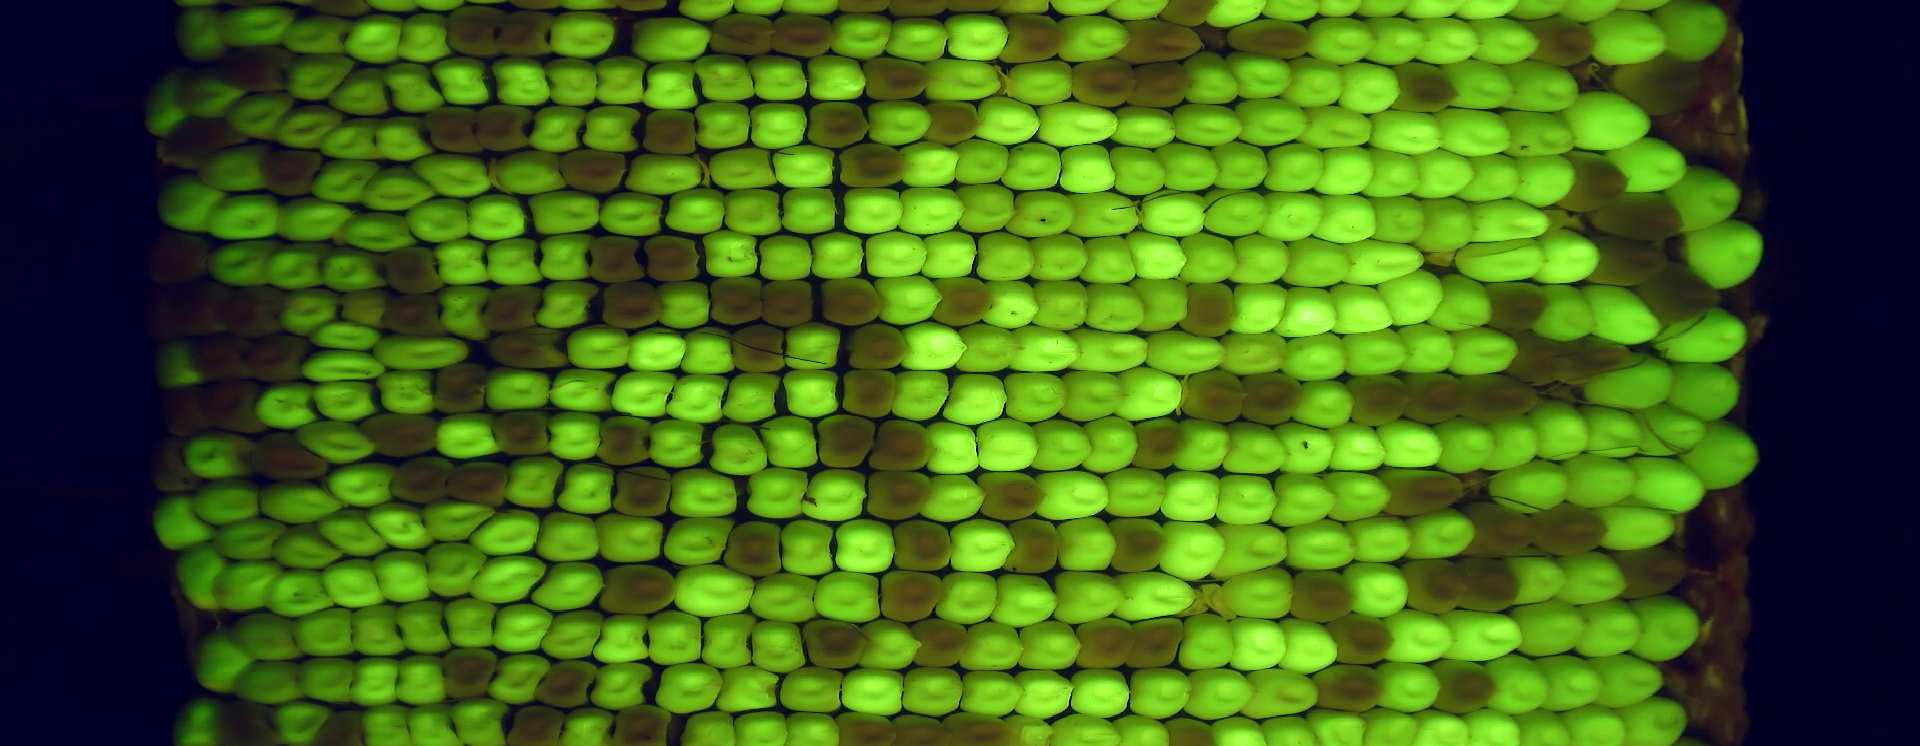fluorescent: (1649, 304, 1751, 361), (1562, 94, 1651, 154), (1687, 219, 1766, 287), (1682, 423, 1762, 489), (1667, 167, 1745, 229), (1667, 363, 1746, 424), (1561, 451, 1641, 510), (1109, 566, 1198, 619), (1627, 454, 1706, 513), (1649, 4, 1728, 62), (1591, 355, 1671, 412), (1633, 597, 1700, 665), (1608, 138, 1690, 194), (1575, 599, 1647, 661), (1209, 522, 1288, 578), (1489, 461, 1571, 514), (1442, 606, 1523, 660), (673, 562, 751, 619), (1220, 565, 1297, 621), (1439, 59, 1515, 115), (1456, 236, 1548, 283), (1534, 654, 1605, 714), (1509, 603, 1589, 655), (1500, 61, 1582, 113), (1596, 499, 1675, 551), (1588, 650, 1664, 706), (1051, 570, 1128, 624), (1160, 519, 1224, 583), (1231, 96, 1313, 146), (1582, 285, 1653, 343), (1031, 470, 1112, 521), (1062, 187, 1142, 238), (1468, 197, 1555, 244), (1036, 99, 1120, 147), (746, 570, 824, 621), (1596, 11, 1667, 67), (296, 416, 377, 465), (1343, 561, 1412, 619), (471, 552, 542, 608), (1559, 550, 1630, 605), (1369, 104, 1445, 156), (776, 661, 849, 715), (629, 17, 713, 64), (1344, 238, 1428, 284), (156, 176, 225, 232), (1065, 325, 1150, 370), (1509, 154, 1580, 208), (1240, 670, 1322, 717), (1029, 278, 1096, 334), (1534, 284, 1596, 345), (482, 366, 553, 419), (1376, 663, 1447, 715), (1160, 465, 1224, 523), (1380, 272, 1445, 330), (1493, 110, 1580, 153), (834, 517, 900, 573), (994, 570, 1060, 626), (1212, 473, 1280, 528), (951, 179, 1021, 232), (1288, 239, 1358, 292), (1082, 413, 1141, 475), (1278, 616, 1343, 673), (666, 516, 737, 567), (816, 570, 883, 624), (538, 55, 605, 109), (958, 622, 1030, 673), (778, 516, 838, 576), (938, 570, 1000, 627), (1487, 659, 1549, 717), (1220, 420, 1289, 472), (416, 152, 493, 198), (1204, 187, 1273, 239), (1104, 463, 1168, 519), (1502, 550, 1566, 606), (1227, 612, 1291, 669), (659, 661, 724, 717), (746, 619, 811, 674), (1057, 16, 1131, 64), (1404, 508, 1476, 559), (856, 616, 922, 670), (1018, 619, 1084, 673), (901, 663, 967, 717), (1273, 421, 1340, 475), (522, 192, 602, 236), (1057, 366, 1124, 419), (1000, 58, 1073, 107), (1441, 108, 1513, 157), (1414, 18, 1487, 67), (1182, 670, 1258, 717), (1284, 522, 1360, 568), (1002, 367, 1070, 419), (800, 469, 868, 521), (1434, 413, 1494, 472), (1385, 611, 1453, 663), (202, 196, 287, 238), (336, 211, 418, 254), (1107, 143, 1171, 198), (367, 502, 432, 556), (599, 510, 664, 563), (1176, 232, 1240, 285), (949, 518, 1015, 571), (1223, 51, 1294, 100), (898, 184, 969, 233), (741, 467, 813, 514), (321, 69, 393, 116), (320, 511, 388, 561), (227, 89, 295, 140), (1149, 328, 1224, 374), (1171, 103, 1247, 148), (869, 278, 945, 323), (1283, 55, 1347, 109), (1537, 230, 1600, 284), (1344, 514, 1414, 563), (1472, 16, 1542, 65), (538, 560, 602, 612), (231, 612, 298, 664), (315, 247, 392, 292), (201, 146, 272, 194), (260, 243, 331, 290), (1136, 273, 1194, 332), (185, 430, 252, 480), (757, 416, 824, 467), (1027, 420, 1095, 470), (711, 421, 771, 478), (1054, 516, 1116, 571), (1307, 16, 1379, 62), (490, 600, 553, 653), (291, 608, 355, 660), (1276, 284, 1340, 337), (300, 655, 365, 707), (924, 474, 989, 526), (1273, 474, 1338, 526), (1324, 470, 1393, 518), (942, 13, 1011, 61), (1371, 420, 1445, 465), (545, 13, 618, 59), (220, 4, 300, 45), (433, 281, 491, 338), (384, 62, 444, 118), (1264, 190, 1325, 244), (1129, 664, 1191, 717), (426, 499, 495, 546), (1635, 404, 1698, 456), (1341, 62, 1404, 114), (1300, 104, 1373, 149), (273, 198, 351, 240), (1124, 230, 1189, 281), (1340, 330, 1416, 372), (213, 517, 283, 563), (474, 510, 544, 556), (312, 158, 382, 205), (1582, 404, 1640, 461), (375, 369, 441, 418), (1067, 666, 1133, 715), (782, 183, 838, 241), (373, 334, 468, 369), (1123, 363, 1183, 416), (152, 497, 213, 550), (541, 511, 602, 563), (921, 58, 1003, 97), (975, 419, 1037, 470), (1227, 282, 1289, 333), (1411, 151, 1473, 202), (1029, 233, 1092, 283), (839, 668, 907, 714), (1451, 328, 1520, 375), (276, 103, 344, 149), (864, 98, 933, 145), (1363, 15, 1428, 64), (700, 612, 756, 670), (197, 631, 250, 691), (433, 54, 493, 107), (1436, 277, 1496, 330), (1011, 191, 1078, 239), (945, 372, 1007, 424), (693, 53, 756, 103), (804, 53, 867, 103), (1087, 282, 1150, 332), (433, 412, 501, 458), (901, 323, 969, 370), (178, 544, 227, 608), (535, 282, 599, 331), (841, 184, 905, 233), (285, 55, 354, 100), (351, 604, 407, 660), (649, 416, 705, 472), (1178, 415, 1233, 472), (426, 543, 484, 597), (1179, 614, 1237, 668), (489, 58, 553, 105), (1108, 105, 1180, 148), (1180, 53, 1239, 105), (1319, 194, 1378, 246), (220, 559, 280, 610), (804, 229, 864, 281), (1262, 145, 1329, 191), (1142, 189, 1209, 235), (720, 370, 781, 420), (1526, 404, 1587, 454), (260, 481, 338, 521), (613, 370, 676, 419), (1326, 423, 1389, 472), (1057, 145, 1119, 194), (982, 281, 1044, 330), (1010, 327, 1078, 372), (1011, 669, 1075, 717), (746, 54, 809, 102), (558, 462, 613, 517), (1418, 198, 1473, 254), (642, 59, 699, 111), (671, 472, 740, 516), (670, 372, 729, 424), (493, 154, 571, 194), (831, 13, 900, 58), (975, 98, 1043, 142), (1212, 140, 1271, 191), (253, 382, 318, 429), (1155, 145, 1220, 191), (283, 16, 358, 56), (645, 611, 705, 661), (977, 230, 1037, 281), (269, 570, 331, 619), (749, 102, 811, 151), (429, 236, 490, 285), (756, 234, 817, 283), (178, 73, 244, 119), (208, 243, 278, 285), (582, 104, 644, 152), (1232, 239, 1294, 287), (1336, 284, 1398, 332), (398, 597, 452, 652), (711, 147, 779, 191), (599, 191, 666, 235), (1364, 145, 1418, 200), (200, 477, 263, 523), (542, 609, 600, 660), (324, 560, 383, 610), (1080, 235, 1139, 285), (552, 366, 617, 412), (958, 325, 1022, 370), (298, 350, 389, 382), (864, 234, 931, 278), (277, 528, 347, 570), (959, 666, 1021, 713), (692, 103, 754, 149), (491, 652, 546, 704), (549, 410, 605, 462), (703, 227, 759, 278), (372, 552, 430, 603), (1000, 145, 1064, 190), (1396, 325, 1455, 374), (345, 15, 404, 64), (142, 77, 191, 136), (539, 233, 598, 282), (669, 187, 729, 235), (718, 665, 779, 712), (1621, 699, 1682, 746), (722, 187, 784, 234), (598, 612, 649, 668), (782, 323, 845, 369), (464, 194, 527, 239), (651, 283, 714, 328), (451, 697, 508, 746), (784, 369, 842, 416), (1283, 333, 1347, 377), (773, 145, 836, 189), (627, 156, 700, 194), (626, 326, 691, 369), (408, 198, 473, 241), (898, 145, 962, 187), (507, 457, 560, 510), (282, 284, 334, 337), (328, 463, 397, 503), (931, 423, 982, 477), (595, 54, 649, 105), (595, 661, 651, 710), (240, 664, 306, 706), (564, 326, 631, 367), (168, 696, 225, 744), (1488, 414, 1536, 472), (318, 115, 382, 158), (951, 138, 1011, 184), (898, 367, 949, 420), (444, 598, 498, 648), (268, 699, 329, 744), (400, 654, 449, 709), (1222, 334, 1293, 372), (364, 171, 433, 209), (1294, 382, 1356, 425), (482, 240, 544, 283), (313, 380, 378, 420), (376, 114, 432, 160), (396, 16, 453, 61), (1357, 706, 1420, 746), (884, 20, 949, 59), (1319, 149, 1376, 194), (1469, 154, 1518, 206), (1307, 708, 1373, 746), (533, 104, 587, 151), (924, 234, 978, 281), (1569, 704, 1629, 746), (176, 9, 227, 58), (1046, 714, 1123, 746), (687, 328, 737, 375), (1376, 198, 1429, 243), (353, 657, 400, 704), (402, 704, 456, 746), (782, 709, 842, 746), (1461, 712, 1524, 746), (1515, 709, 1573, 746), (1111, 713, 1176, 746), (563, 704, 613, 746), (309, 321, 381, 349), (359, 706, 409, 746), (156, 345, 202, 387), (1416, 710, 1469, 746), (1259, 717, 1324, 746), (735, 713, 790, 746), (1004, 710, 1052, 746), (1204, 1, 1264, 29), (1209, 715, 1264, 746), (688, 710, 735, 746), (671, 1, 737, 24), (1559, 1, 1613, 28), (1109, 1, 1168, 24), (1397, 1, 1464, 20), (1261, 1, 1324, 21), (1046, 1, 1118, 17), (1457, 1, 1513, 20), (1513, 1, 1561, 21), (735, 1, 784, 20), (784, 1, 841, 15), (1320, 1, 1364, 18), (1364, 1, 1408, 18), (560, 1, 620, 11), (1613, 1, 1668, 11), (378, 1, 418, 15), (411, 1, 464, 11), (175, 1, 218, 9)
nonfluorescent: (1632, 260, 1722, 328), (1611, 54, 1701, 118), (1589, 195, 1689, 247), (719, 517, 791, 586), (1581, 232, 1660, 290), (1427, 657, 1502, 717), (596, 565, 681, 617), (1485, 287, 1559, 347), (1527, 505, 1611, 556), (1380, 469, 1466, 518), (876, 568, 945, 628), (1178, 281, 1242, 345), (1396, 557, 1467, 615), (1116, 22, 1211, 64), (1305, 666, 1386, 715), (1464, 503, 1539, 556), (1558, 153, 1622, 213), (969, 470, 1049, 518), (1227, 17, 1311, 62), (598, 281, 669, 334), (864, 467, 936, 521), (1000, 518, 1067, 576), (1613, 546, 1685, 599), (249, 432, 329, 479), (1461, 376, 1542, 423), (754, 273, 819, 331), (1458, 557, 1524, 614), (1070, 58, 1144, 108), (1179, 372, 1253, 423), (834, 142, 911, 190), (1071, 619, 1139, 673), (1393, 65, 1462, 118), (151, 122, 242, 162), (802, 619, 872, 670), (1404, 370, 1468, 426), (1289, 570, 1354, 625), (1562, 336, 1629, 390), (1107, 519, 1176, 571), (1123, 612, 1184, 670), (704, 273, 767, 330), (485, 330, 573, 369), (242, 331, 311, 381), (867, 423, 936, 473), (384, 290, 449, 343), (819, 277, 884, 330), (1236, 377, 1302, 429), (1527, 18, 1598, 66), (1325, 616, 1396, 664), (1511, 330, 1570, 387), (433, 359, 497, 412), (1347, 376, 1411, 429), (804, 97, 869, 148), (891, 521, 956, 572), (206, 379, 263, 436), (220, 45, 291, 92), (489, 410, 558, 457), (377, 249, 443, 298), (264, 147, 324, 201), (590, 416, 653, 468), (820, 412, 872, 474), (1125, 62, 1191, 110), (907, 621, 973, 669), (612, 468, 673, 519), (484, 284, 546, 334), (861, 59, 932, 103), (844, 322, 909, 370), (643, 107, 704, 157), (156, 382, 209, 439), (474, 100, 531, 153), (493, 10, 556, 58), (388, 456, 451, 503), (1131, 419, 1185, 474), (184, 281, 235, 338), (932, 278, 989, 330), (609, 704, 680, 746), (362, 416, 440, 454), (643, 234, 705, 281), (229, 290, 291, 337), (446, 7, 503, 58), (589, 235, 647, 285), (839, 370, 899, 418), (562, 149, 631, 191), (449, 463, 511, 510), (154, 234, 208, 287), (148, 439, 200, 494), (442, 648, 497, 699), (425, 104, 481, 153), (705, 15, 771, 56), (767, 17, 839, 55), (1002, 13, 1060, 60), (928, 99, 984, 147), (219, 701, 278, 746), (730, 326, 786, 372), (193, 336, 247, 382), (944, 710, 1011, 746), (551, 660, 598, 710), (306, 710, 369, 746), (504, 710, 566, 746), (882, 710, 943, 746), (151, 292, 191, 342), (835, 714, 895, 746), (1156, 1, 1213, 32), (1161, 720, 1216, 746), (887, 1, 949, 20), (315, 1, 370, 18), (945, 1, 996, 15), (506, 1, 564, 10), (618, 1, 666, 9)
